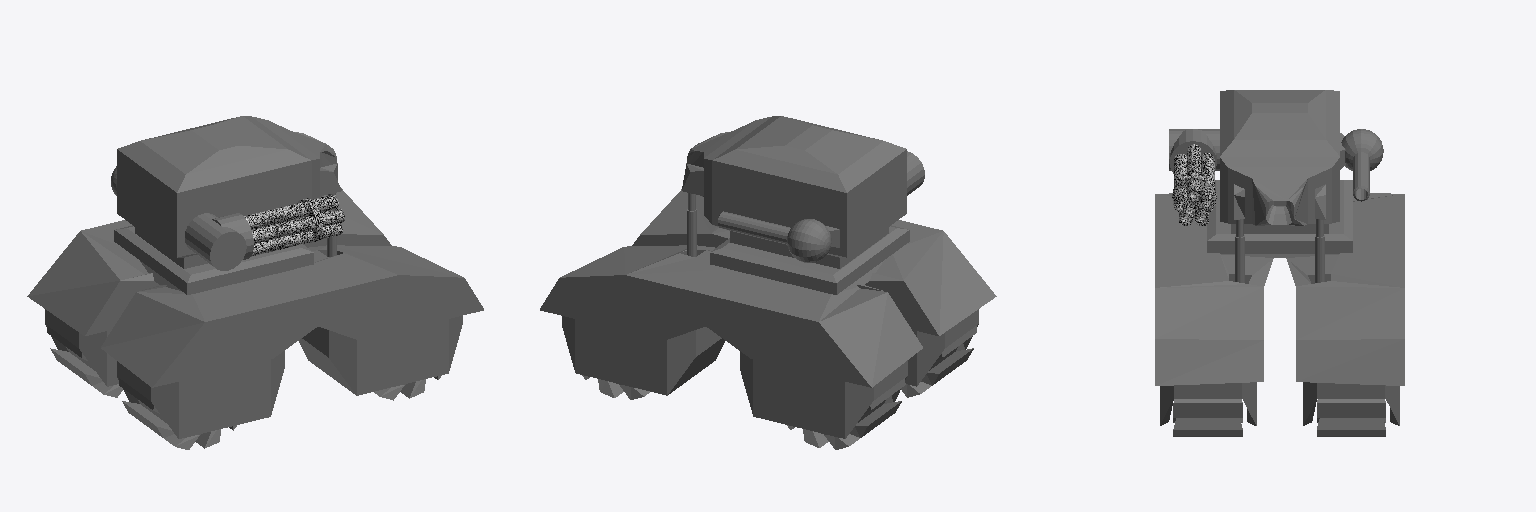
3 renders of one model, left to right at view 1: azimuth 30°, elevation 25°; view 2: azimuth 150°, elevation 25°; view 3: azimuth 270°, elevation 25°, orthographic.
Parts seen in each view (by area): view 1: pCube1, pCube6, pCube5, pCube4, torretauno:objt, pCylinder5, pCube3, pCylinder4, pCylinder2, pCylinder10, pCylinder3; view 2: pCube1, pCube6, pCube2, pCube3, pSphere1, pCube4, pCylinder2, pCylinder4, pCylinder1, pCylinder5; view 3: pCube1, pCube6, torretauno:objt, pCylinder3, pCylinder1, pCube2, pCube5, pSphere1, pCylinder10.
Part boxes in pixels (bbox=[...]): pCube1: bbox=[27, 188, 483, 387]; pCube6: bbox=[117, 116, 341, 268]; pCube5: bbox=[299, 316, 462, 395]; pCube4: bbox=[117, 351, 284, 438]; torretauno:objt: bbox=[244, 195, 344, 256]; pCylinder5: bbox=[185, 213, 246, 270]; pCube3: bbox=[45, 309, 118, 386]; pCylinder4: bbox=[119, 378, 236, 449]; pCylinder2: bbox=[47, 326, 122, 397]; pCylinder10: bbox=[212, 213, 253, 259]; pCylinder3: bbox=[374, 375, 441, 400]; pCube1: bbox=[540, 189, 996, 387]; pCube6: bbox=[682, 116, 906, 268]; pCube2: bbox=[562, 316, 724, 395]; pCube3: bbox=[740, 351, 907, 438]; pSphere1: bbox=[718, 211, 831, 262]; pCube4: bbox=[905, 309, 978, 386]; pCylinder2: bbox=[787, 378, 905, 449]; pCylinder4: bbox=[901, 326, 976, 397]; pCylinder1: bbox=[582, 375, 649, 399]; pCylinder5: bbox=[907, 151, 924, 195]; pCube1: bbox=[1155, 180, 1404, 385]; pCube6: bbox=[1220, 90, 1345, 233]; torretauno:objt: bbox=[1172, 144, 1216, 225]; pCylinder3: bbox=[1173, 399, 1242, 436]; pCylinder1: bbox=[1317, 399, 1385, 436]; pCube2: bbox=[1303, 382, 1399, 425]; pCube5: bbox=[1160, 382, 1256, 425]; pSphere1: bbox=[1341, 129, 1383, 201]; pCylinder10: bbox=[1170, 129, 1216, 173].
Bounding box in the file's own units: 103 × 76.06 × 67.25.
2 materials, 1 textured.